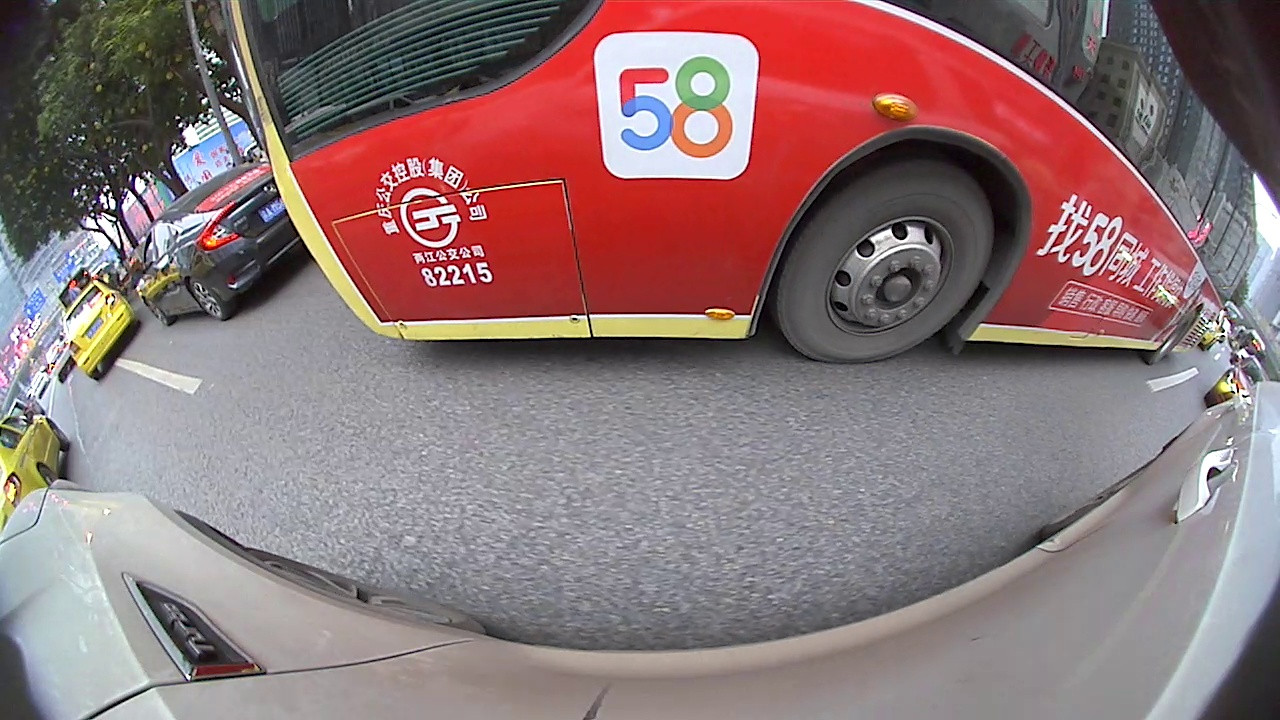bus: (224, 1, 1263, 362)
car: (136, 156, 310, 331), (56, 279, 143, 383), (0, 407, 73, 516)
front: (767, 155, 999, 368), (141, 296, 172, 327)
rear: (1144, 307, 1199, 361), (179, 278, 231, 321)
